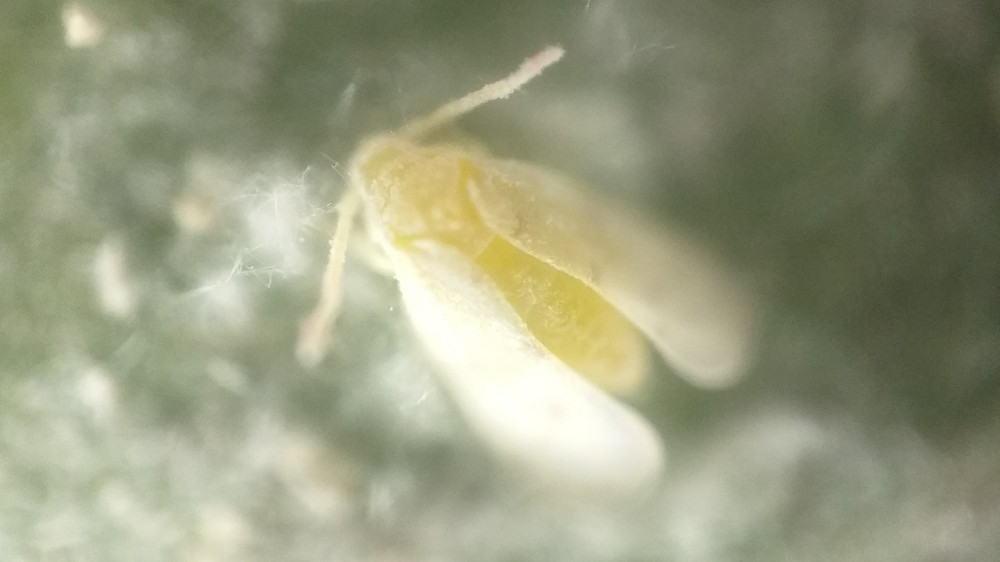Mosca Blanca: (287, 44, 777, 541)
